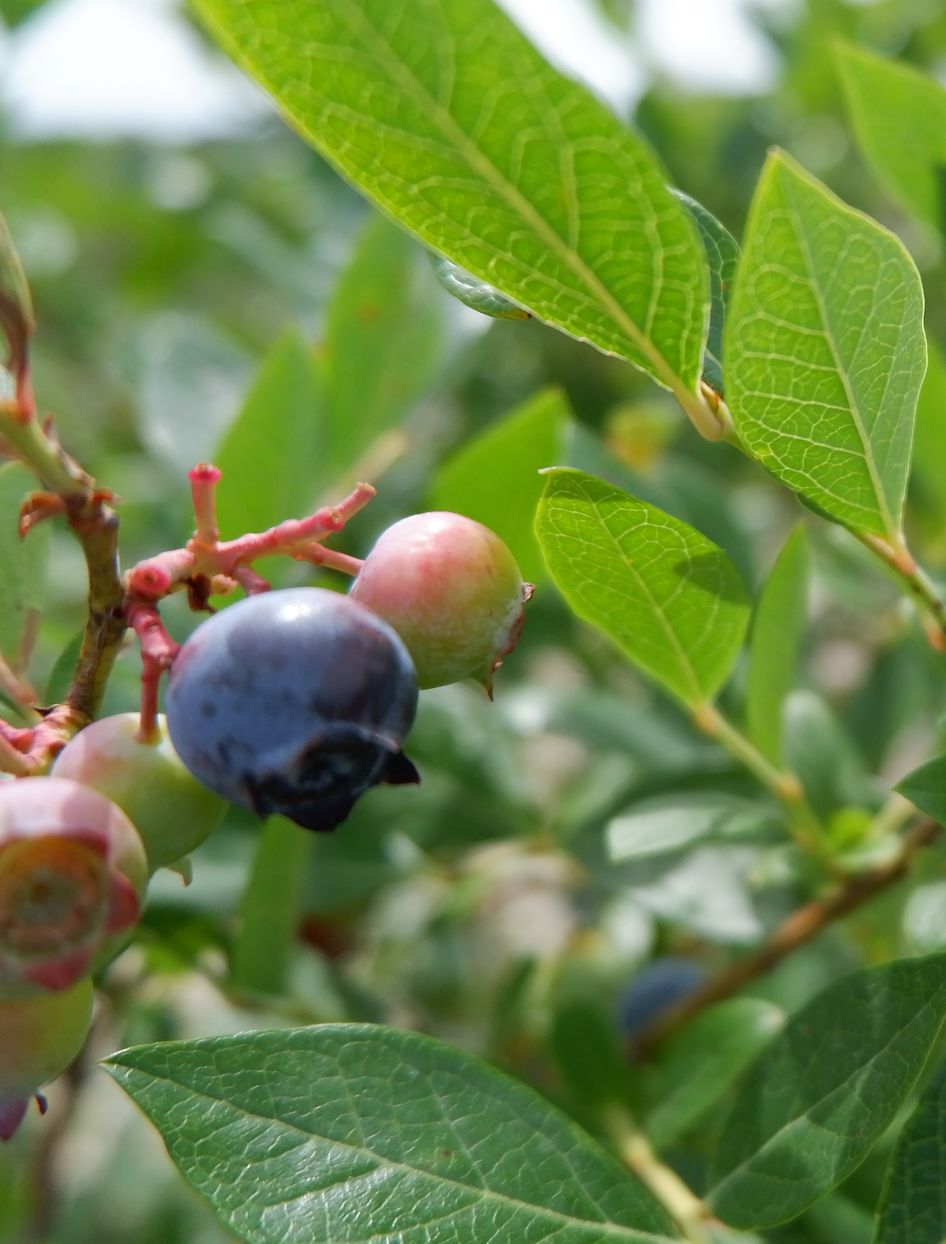Immature: (1, 776, 150, 984), (355, 514, 523, 689), (56, 715, 221, 869), (2, 978, 97, 1141)
Mature: (170, 595, 411, 823)
